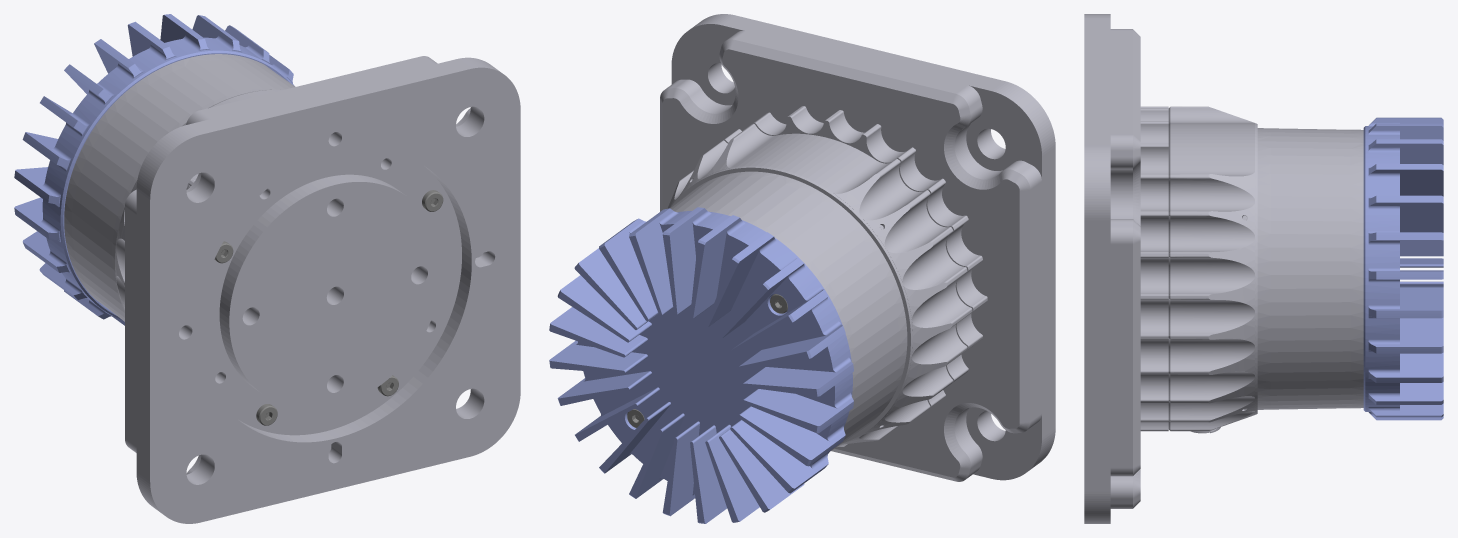
3 renders of one model, left to right at view 1: azimuth 30°, elevation 25°; view 2: azimuth 150°, elevation 25°; view 3: azimuth 270°, elevation 25°, orthographic. The views are drawn at different scales.
Visible parts, largest first — view 1: node2, node0, node1; view 2: node2, node1, node0; view 3: node0, node2, node1.
Boxes of the visible parts, x1,y1,x2,y2 form: node2: [125, 56, 520, 523]; node0: [64, 54, 295, 321]; node1: [14, 14, 294, 325]; node2: [660, 14, 1055, 481]; node1: [549, 207, 853, 523]; node0: [667, 124, 972, 451]; node0: [1168, 106, 1363, 433]; node2: [1084, 14, 1168, 523]; node1: [1363, 117, 1443, 420].
Size of the model in its own units: 0.11 by 0.096 by 0.11.
